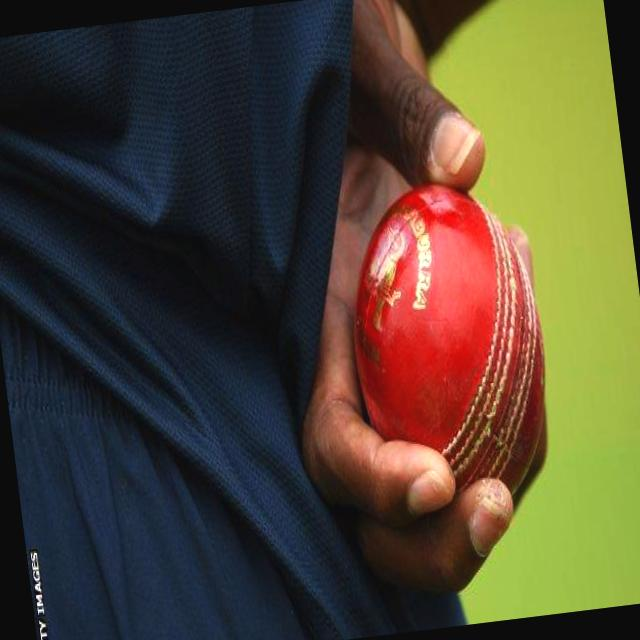ball: (333, 166, 564, 506)
